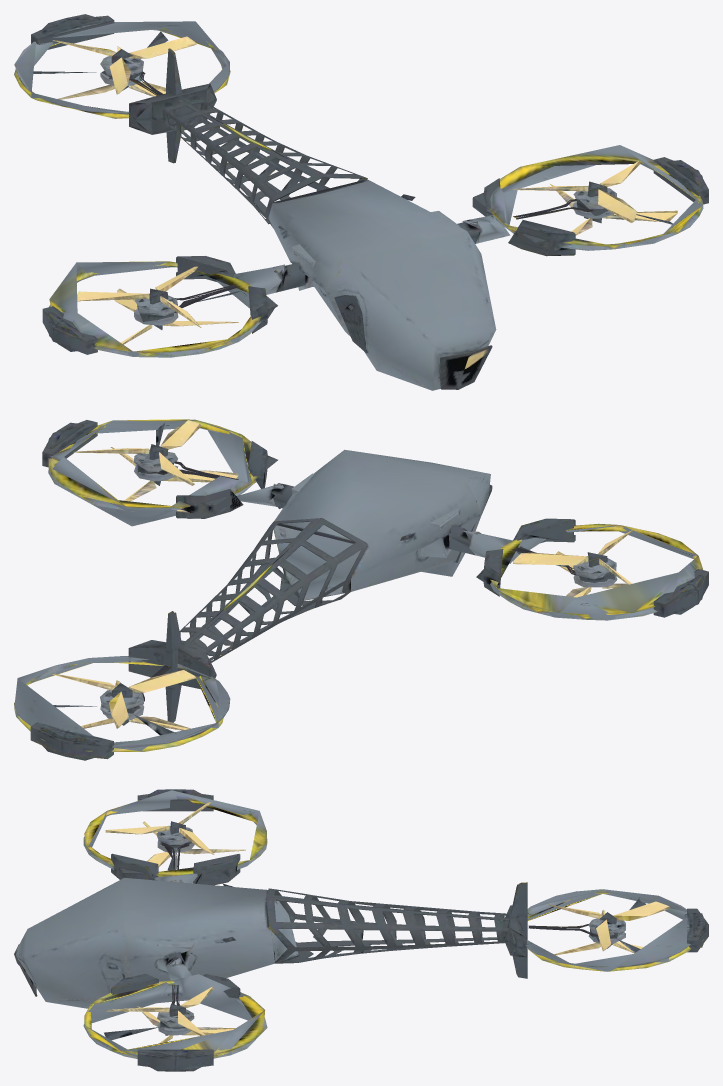
Rendered from aerostat.m.glb.
The picture shows the model from 3 angles, top to bottom: view 1: azimuth 30°, elevation 25°; view 2: azimuth 150°, elevation 25°; view 3: azimuth 270°, elevation 25°; orthographic projection. The views are drawn at different scales.
Visible parts, largest first — view 1: Sci-Fi Surveillance Drone_Sci-Fi Surveillance Drone_0; view 2: Sci-Fi Surveillance Drone_Sci-Fi Surveillance Drone_0; view 3: Sci-Fi Surveillance Drone_Sci-Fi Surveillance Drone_0.
Boxes of the visible parts, left/top/right/bottom form: Sci-Fi Surveillance Drone_Sci-Fi Surveillance Drone_0: left=14, top=14, right=708, bottom=390; Sci-Fi Surveillance Drone_Sci-Fi Surveillance Drone_0: left=14, top=419, right=708, bottom=760; Sci-Fi Surveillance Drone_Sci-Fi Surveillance Drone_0: left=14, top=789, right=708, bottom=1071.
Bounding box in the file's own units: 11.76 × 2.4 × 12.88.
1 material, 1 textured.
